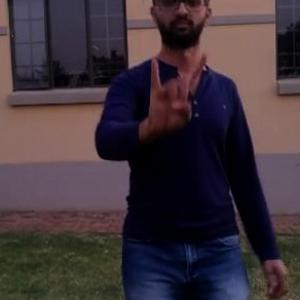takeoff-hand: (145, 46, 213, 142)
